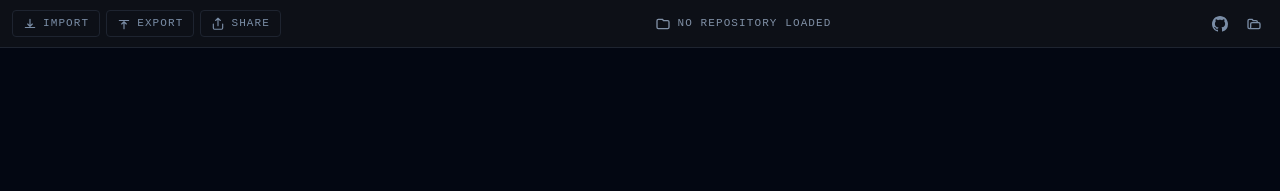
Test: TopBar › shows Export as PDF option in export menu when services exist
This screenshot has width=1280, height=191.
Click the button "Export". click: (150, 24)
box: [106,10,194,37]
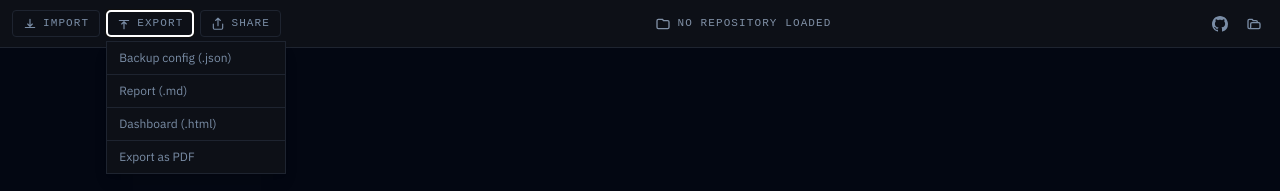
Expected: the menu item "Export as PDF" is shown, [107,140,285,173]
